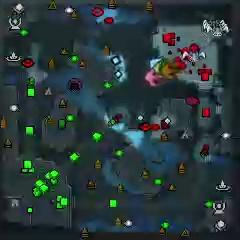x1: (145, 68, 162, 87)
x2: (154, 60, 161, 73)
x3: (149, 58, 162, 68)
x5: (161, 64, 183, 80)
